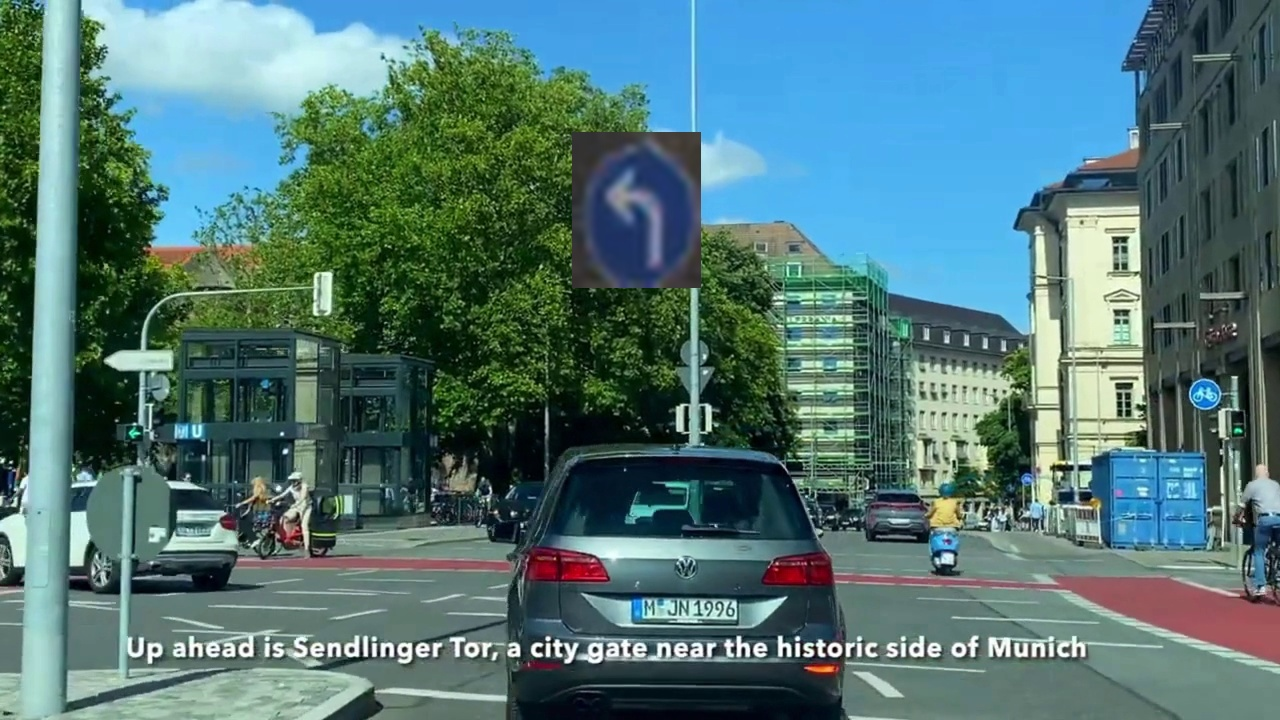Turn left: (572, 132, 701, 288)
